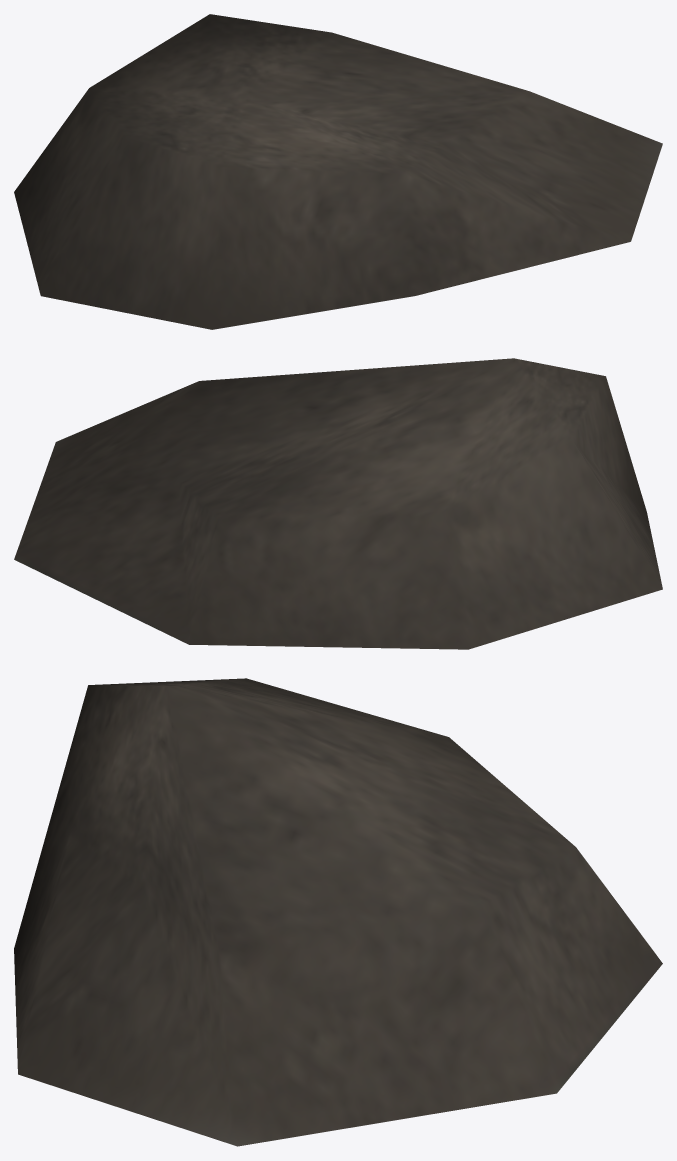
File: abandoned_powder.FBX
3 views of the same model, one above another, from view 1: azimuth 30°, elevation 25°; view 2: azimuth 150°, elevation 25°; view 3: azimuth 270°, elevation 25° (orthographic). The views are drawn at different scales.
Visible parts, largest first — view 1: Object002; view 2: Object002; view 3: Object002.
Boxes of the visible parts, bbox=[...] form: Object002: bbox=[14, 14, 662, 329]; Object002: bbox=[14, 358, 662, 649]; Object002: bbox=[14, 678, 662, 1146].
Size of the model in its own units: 47.96 by 12.67 by 36.48.
